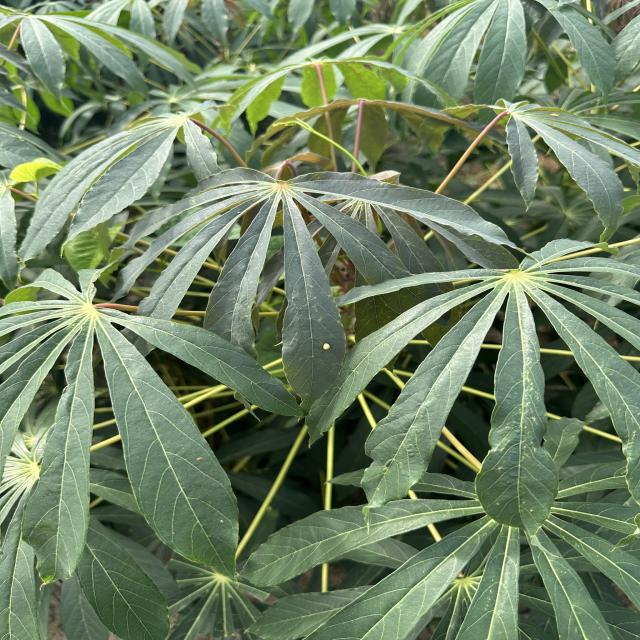Mosca: (367, 161, 429, 200), (9, 425, 37, 464), (312, 331, 336, 370)
